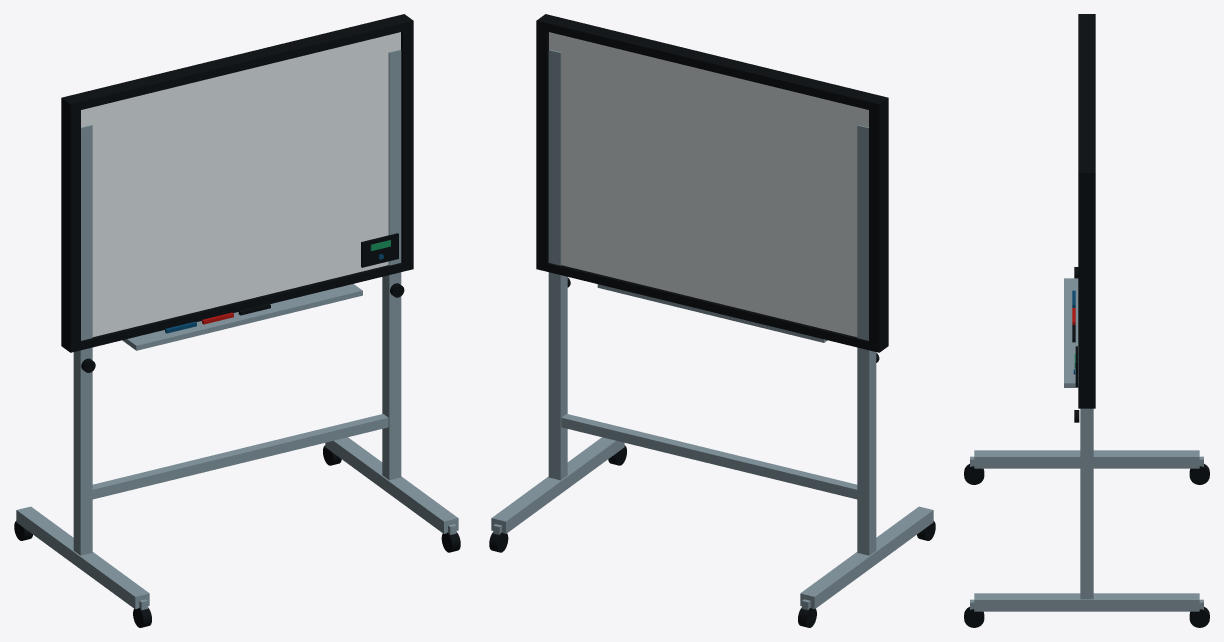
The model's file is electronic_whiteboard.dae.
3 views of the same model, side by side, from view 1: azimuth 30°, elevation 25°; view 2: azimuth 150°, elevation 25°; view 3: azimuth 270°, elevation 25° (orthographic). The views are drawn at different scales.
Parts seen in each view (by area): view 1: writing_panel, stand_upright (×2), horizontal_frame (×2), side_frame (×2), stand_foot (×2), stand_crossbar, pen_tray, control_panel; view 2: writing_panel, stand_upright (×2), horizontal_frame (×2), side_frame (×2), stand_foot (×2), stand_crossbar, pen_tray; view 3: stand_foot (×2), side_frame, horizontal_frame, stand_upright, pen_tray.
Boxes of the visible parts, <box> form: writing_panel: <box>81,32,400,336</box>; stand_upright (×2): <box>73,49,401,555</box>; horizontal_frame (×2): <box>61,14,413,352</box>; side_frame (×2): <box>61,14,413,352</box>; stand_foot (×2): <box>16,437,458,609</box>; stand_crossbar: <box>92,414,388,499</box>; pen_tray: <box>122,284,362,350</box>; control_panel: <box>361,233,398,267</box>; writing_panel: <box>549,32,868,336</box>; stand_upright (×2): <box>548,49,876,555</box>; horizontal_frame (×2): <box>536,14,888,352</box>; side_frame (×2): <box>536,14,888,352</box>; stand_foot (×2): <box>491,437,933,609</box>; stand_crossbar: <box>561,414,857,499</box>; pen_tray: <box>597,284,827,342</box>; stand_foot (×2): <box>974,450,1199,611</box>; side_frame: <box>1078,168,1095,408</box>; horizontal_frame: <box>1078,14,1095,179</box>; stand_upright: <box>1080,408,1093,599</box>; pen_tray: <box>1064,278,1078,387</box>.
Size of the model in its own units: 1300 by 850 by 1760.
